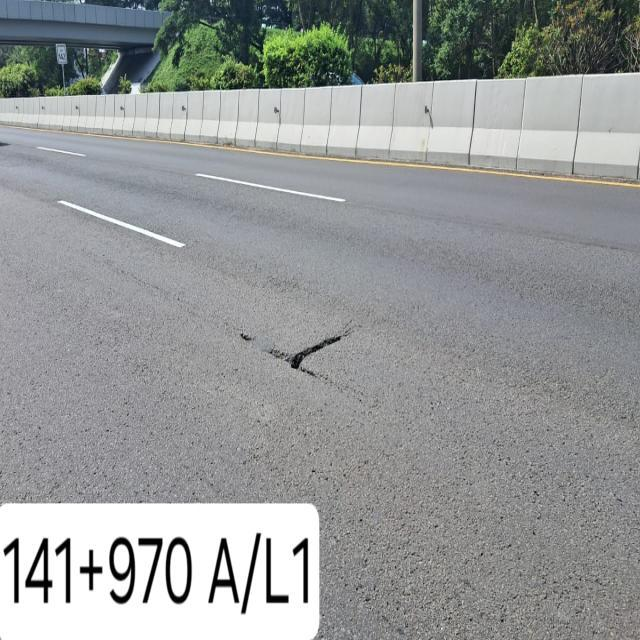Buraco: (264, 331, 346, 382), (233, 328, 258, 347)
